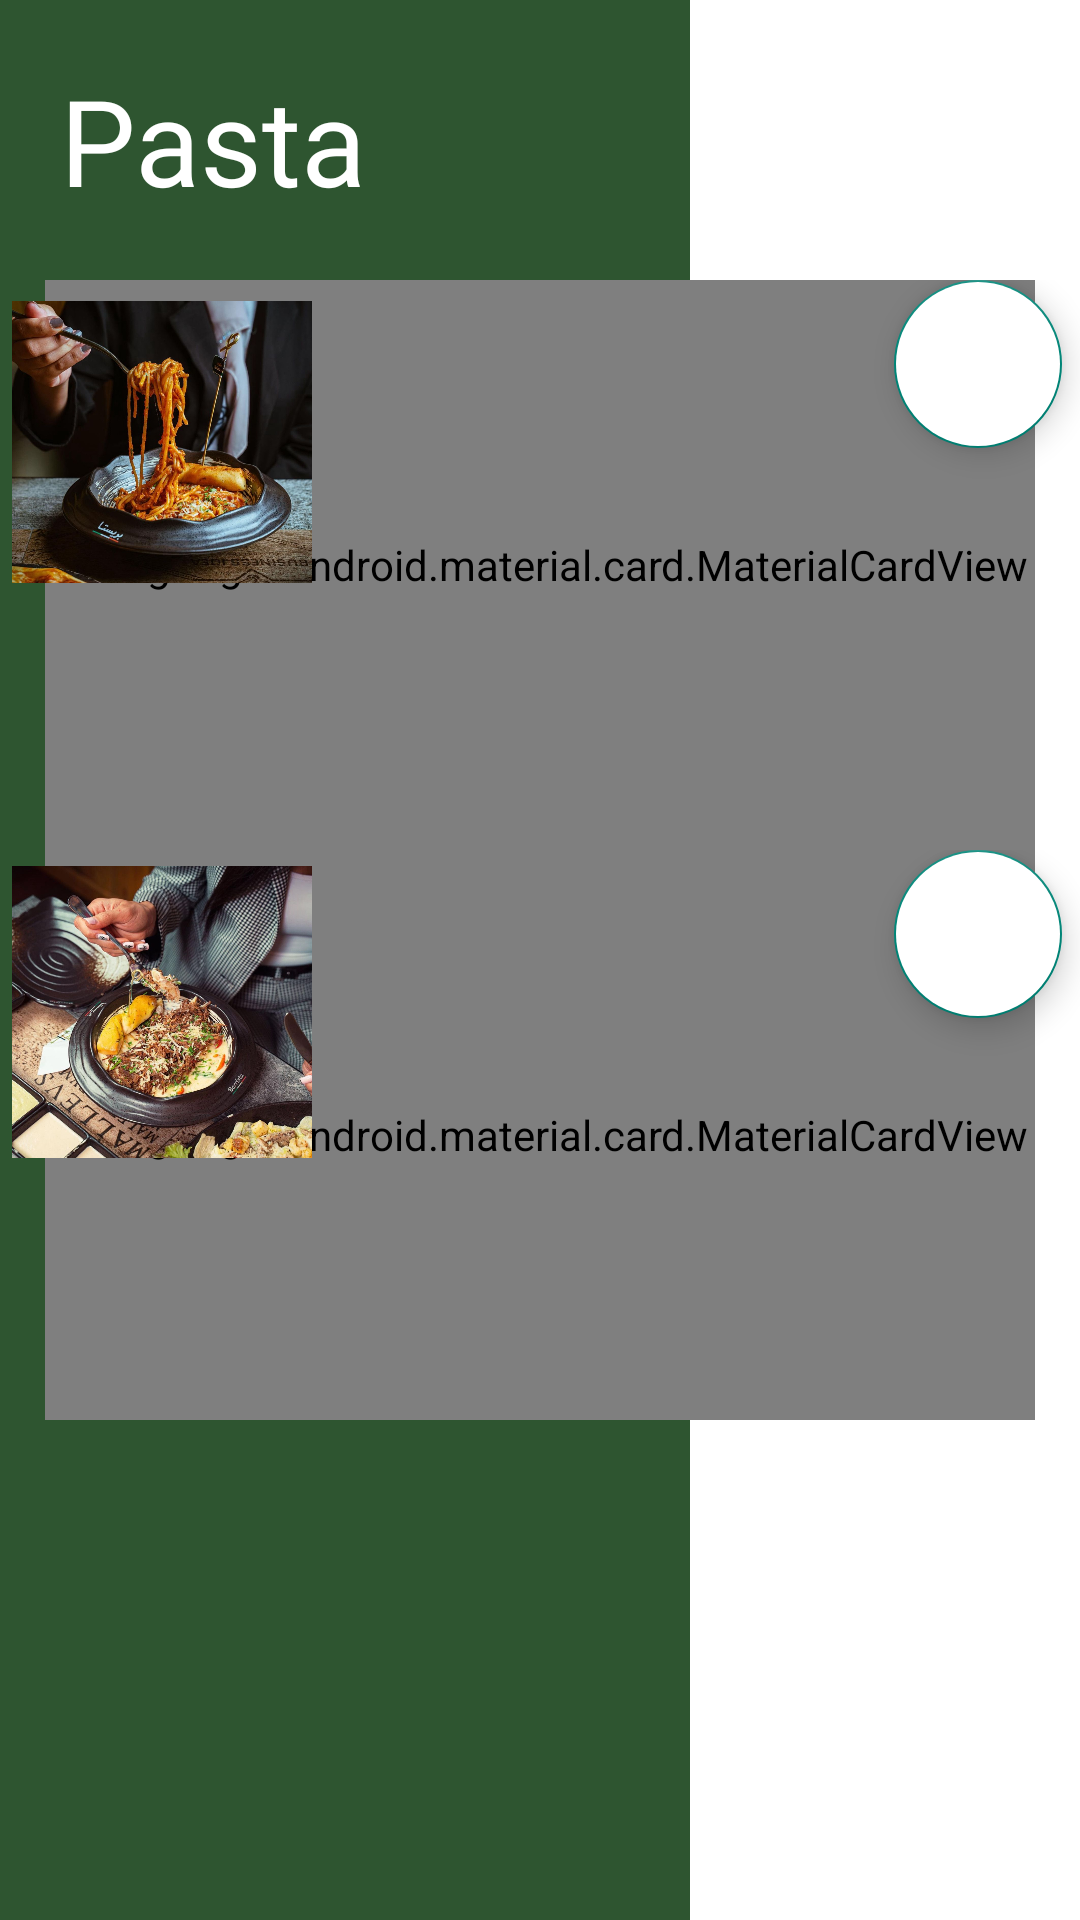

Named icons in this screenshot (1080x1920) and their centers, (x=x, y=y):
spagiti: (x=162, y=442)
